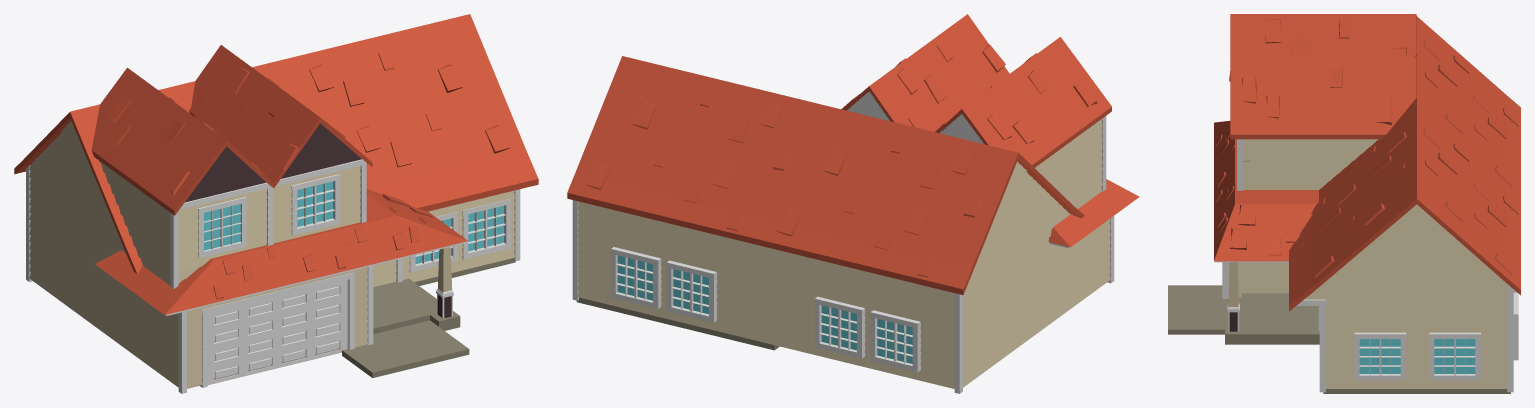
Rendered from house v1.0.glb.
3 views of the same model, side by side, from view 1: azimuth 30°, elevation 25°; view 2: azimuth 150°, elevation 25°; view 3: azimuth 270°, elevation 25° (orthographic). The views are drawn at different scales.
Parts seen in each view (by area): view 1: Cube.683; view 2: Cube.683; view 3: Cube.683.
Boxes of the visible parts, x1=… form: Cube.683: x1=14, y1=14, x2=538, y2=393; Cube.683: x1=567, y1=14, x2=1139, y2=393; Cube.683: x1=1168, y1=14, x2=1520, y2=393.
Size of the model in its own units: 23.65 by 13.09 by 18.57.
